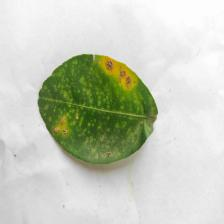canker: (45, 52, 161, 153)
